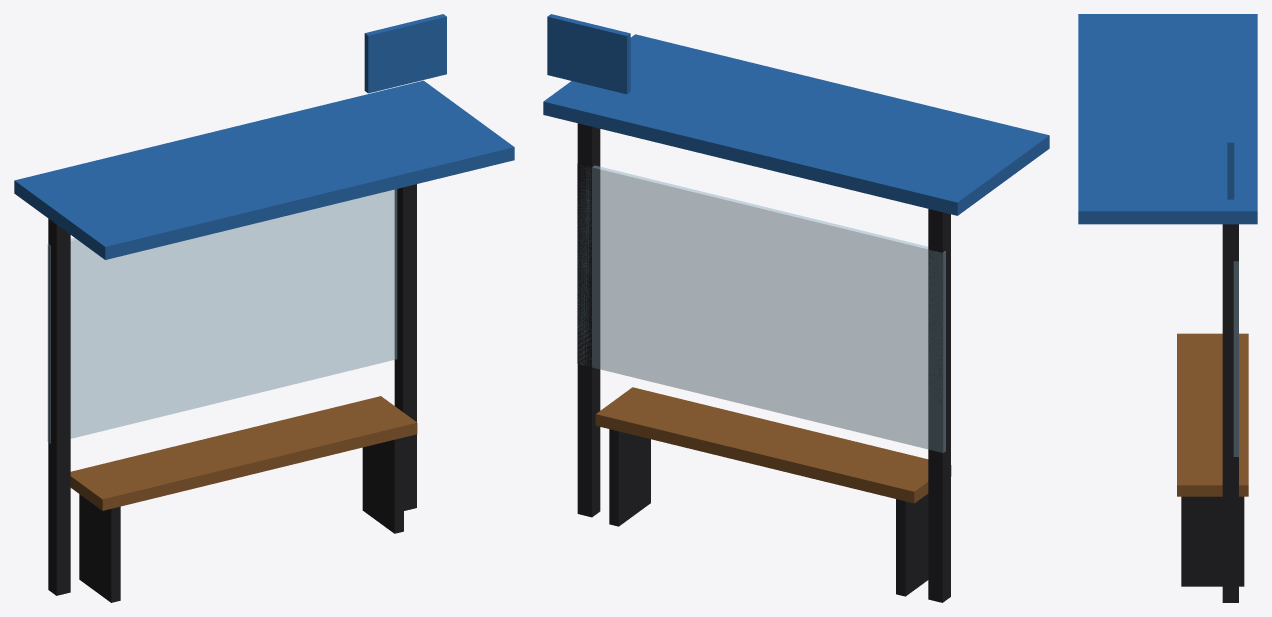
The model's file is prop_busstop.glb.
3 views of the same model, side by side, from view 1: azimuth 30°, elevation 25°; view 2: azimuth 150°, elevation 25°; view 3: azimuth 270°, elevation 25° (orthographic). The views are drawn at different scales.
Size of the model in its own units: 2.65 by 2.93 by 1.
